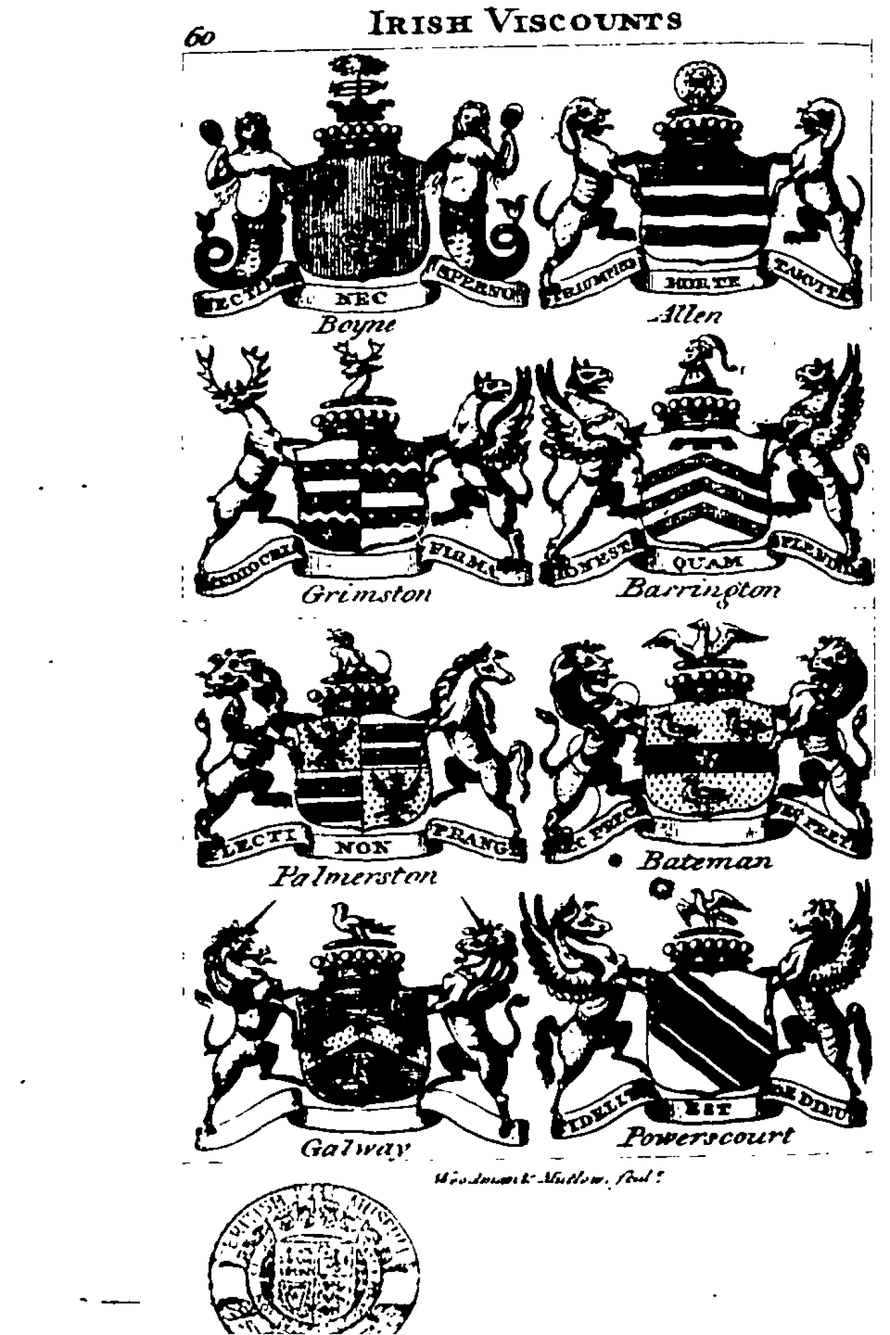coat_of_arms: (167, 882, 542, 1161), (184, 48, 530, 338), (180, 336, 528, 622), (175, 615, 528, 886), (528, 879, 872, 1156), (535, 41, 870, 324), (526, 350, 886, 610), (530, 616, 874, 877)
